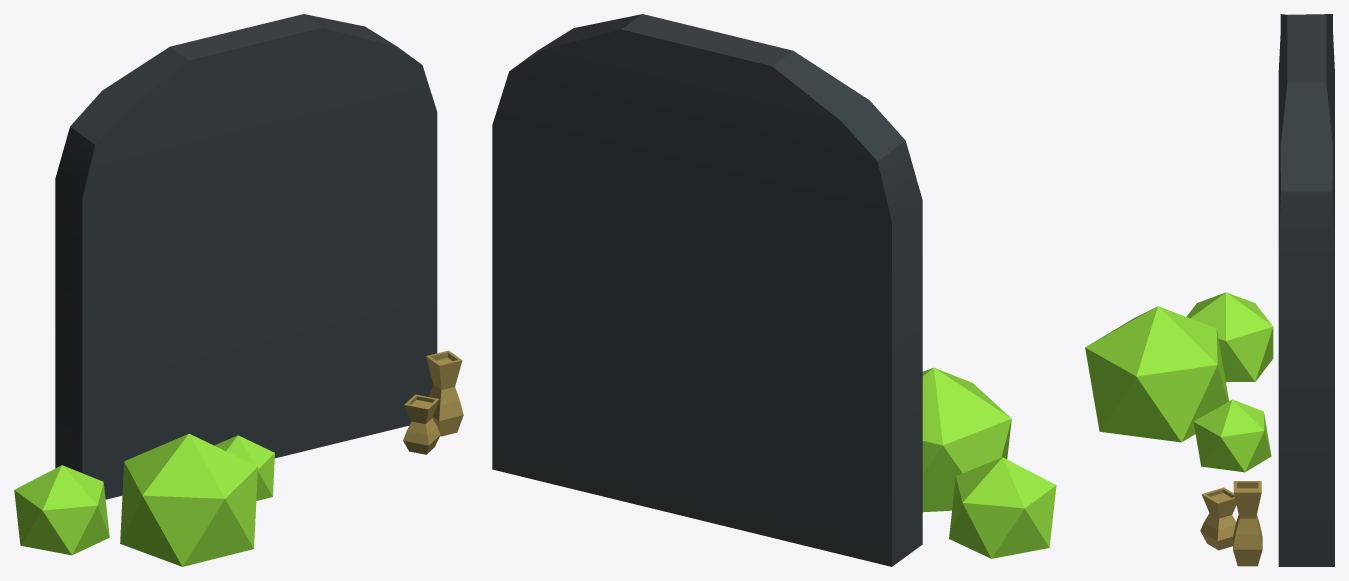
The model's file is grave.glb.
3 views of the same model, side by side, from view 1: azimuth 30°, elevation 25°; view 2: azimuth 150°, elevation 25°; view 3: azimuth 270°, elevation 25° (orthographic). The views are drawn at different scales.
Visible parts, largest first — view 1: Cube, Icosphere.001, Icosphere, Cube.001, Cube.002, Icosphere.002; view 2: Cube, Icosphere.001, Icosphere; view 3: Cube, Icosphere.001, Icosphere, Icosphere.002, Cube.001, Cube.002.
Part boxes in pixels (left/top/right/bottom): Cube: left=55, top=14, right=437, bottom=499; Icosphere.001: left=120, top=433, right=257, bottom=566; Icosphere: left=14, top=465, right=109, bottom=555; Cube.001: left=426, top=350, right=463, bottom=436; Cube.002: left=403, top=394, right=440, bottom=454; Icosphere.002: left=214, top=435, right=274, bottom=500; Cube: left=492, top=14, right=922, bottom=566; Icosphere.001: left=922, top=367, right=1011, bottom=512; Icosphere: left=949, top=457, right=1056, bottom=558; Cube: left=1278, top=14, right=1334, bottom=566; Icosphere.001: left=1085, top=306, right=1228, bottom=442; Icosphere: left=1186, top=292, right=1273, bottom=381; Icosphere.002: left=1193, top=399, right=1271, bottom=472; Cube.001: left=1233, top=481, right=1262, bottom=566; Cube.002: left=1200, top=487, right=1236, bottom=550.
Bounding box in the file's own units: 1.34 × 1.2 × 0.6278.
